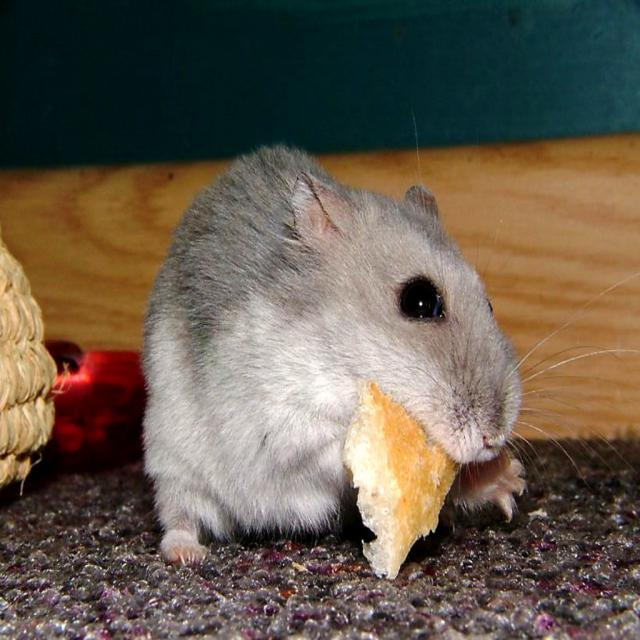rat: (141, 144, 527, 568)
